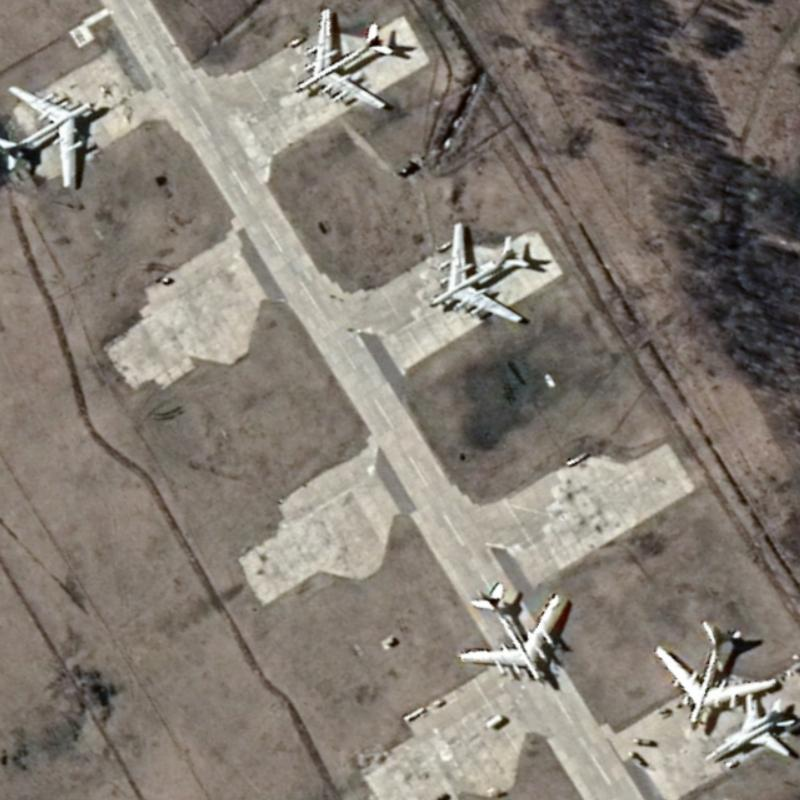A12: (702, 690, 797, 763)
A17: (652, 618, 778, 728), (426, 219, 532, 324), (292, 5, 394, 109), (457, 579, 560, 680), (0, 83, 96, 188)
